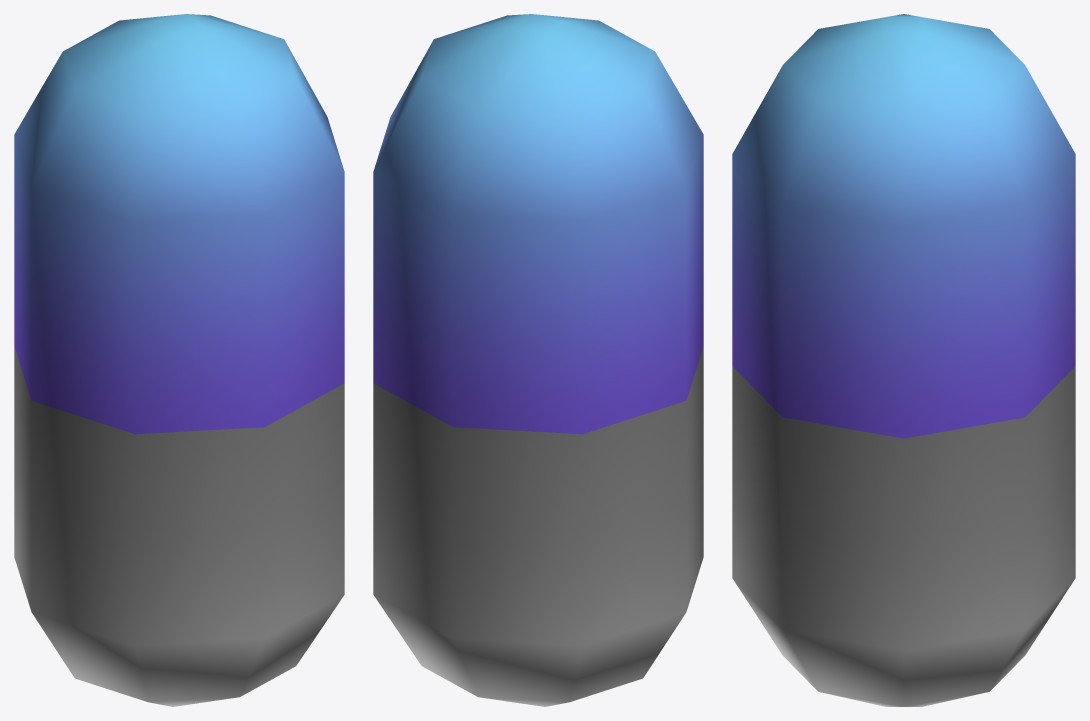
The model's file is x_pill_pickup.fbx.
3 views of the same model, side by side, from view 1: azimuth 30°, elevation 25°; view 2: azimuth 150°, elevation 25°; view 3: azimuth 270°, elevation 25° (orthographic).
Visible parts, largest first — view 1: x_pill_pickup; view 2: x_pill_pickup; view 3: x_pill_pickup.
Part boxes in pixels (x1,y1,x2,y2): x_pill_pickup: (14,14,344,706); x_pill_pickup: (373,14,703,706); x_pill_pickup: (732,14,1075,706).
Bounding box in the file's own units: 5.91 × 12.82 × 5.91.
Materials: 1 (1 with a texture image).
